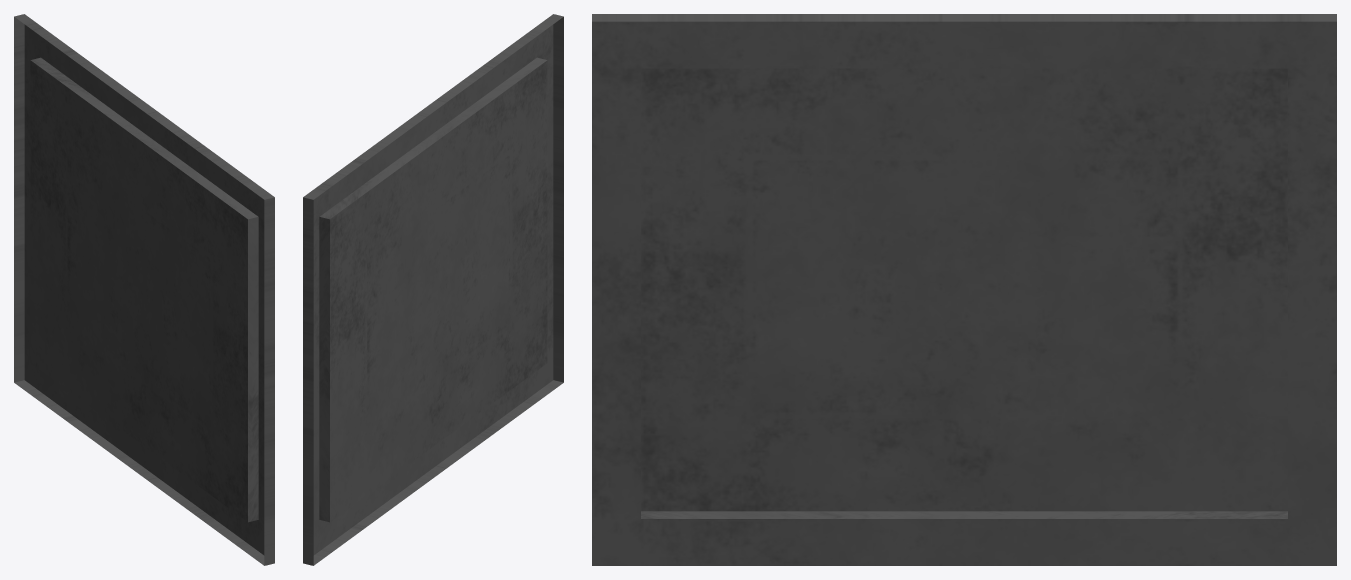
Rendered from IndustrialModularPiece5.fbx.
3 renders of one model, left to right at view 1: azimuth 30°, elevation 25°; view 2: azimuth 150°, elevation 25°; view 3: azimuth 270°, elevation 25°, orthographic. The views are drawn at different scales.
Parts seen in each view (by area): view 1: Engine_low.013; view 2: Engine_low.013; view 3: Engine_low.013.
Part boxes in pixels (box(x1,y1,x2,y2)): Engine_low.013: box(14, 14, 274, 565); Engine_low.013: box(303, 14, 563, 565); Engine_low.013: box(592, 14, 1336, 565).
Size of the model in its own units: 3.78 by 126 by 156.
